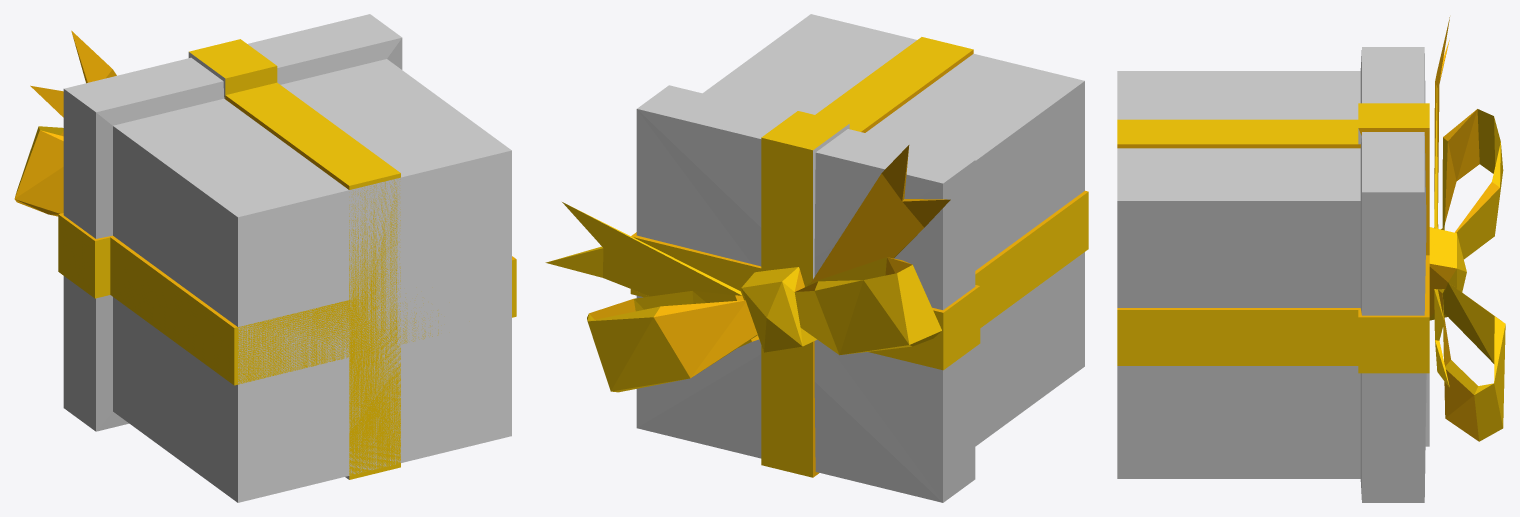
File: gift_box_4.fbx
The picture shows the model from 3 angles, left to right: view 1: azimuth 30°, elevation 25°; view 2: azimuth 150°, elevation 25°; view 3: azimuth 270°, elevation 25°; orthographic projection. The views are drawn at different scales.
Parts seen in each view (by area): view 1: gift_box_3.001; view 2: gift_box_3.001; view 3: gift_box_3.001.
Part boxes in pixels (left/top/right/bottom): gift_box_3.001: left=14, top=14, right=516, bottom=502; gift_box_3.001: left=545, top=14, right=1088, bottom=502; gift_box_3.001: left=1117, top=17, right=1505, bottom=502.
Bounding box in the file's own units: 325 × 279 × 274.
